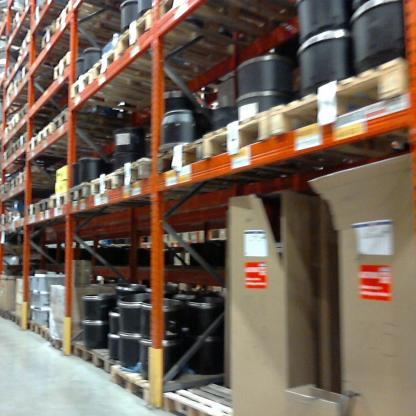pallet: (268, 49, 411, 161), (203, 106, 354, 191), (117, 10, 255, 97), (153, 3, 310, 49), (64, 60, 177, 123), (91, 44, 190, 105), (106, 354, 218, 406), (51, 105, 135, 146), (154, 140, 217, 190), (55, 0, 142, 33), (171, 378, 239, 413), (36, 27, 105, 59), (37, 119, 105, 150), (28, 135, 93, 164), (52, 44, 96, 86), (89, 339, 134, 380), (89, 156, 120, 207), (119, 150, 153, 194), (67, 172, 94, 213), (35, 0, 82, 20), (21, 60, 57, 86), (16, 103, 52, 125), (66, 331, 91, 361), (14, 131, 46, 154), (48, 182, 70, 213), (45, 329, 69, 351), (3, 210, 22, 234), (22, 315, 43, 335), (6, 311, 26, 331), (37, 194, 51, 222), (25, 198, 39, 226), (39, 320, 52, 343)
